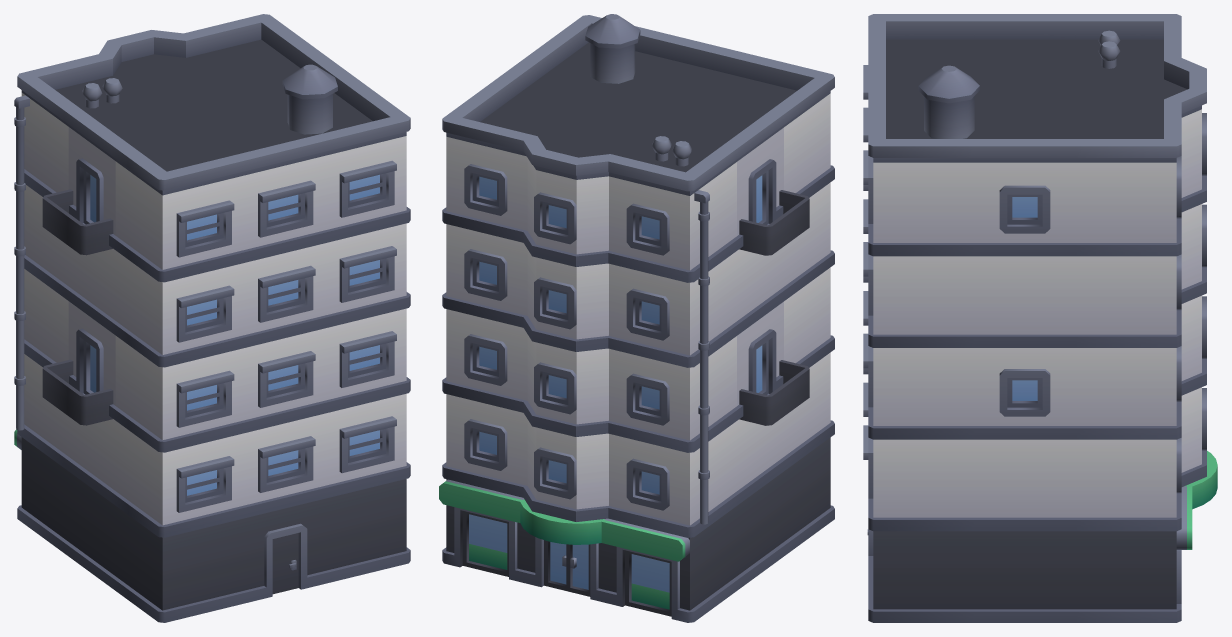
File: building-l.glb
3 views of the same model, side by side, from view 1: azimuth 30°, elevation 25°; view 2: azimuth 150°, elevation 25°; view 3: azimuth 270°, elevation 25° (orthographic). The views are drawn at different scales.
Visible parts, largest first — view 1: building-l; view 2: building-l; view 3: building-l.
Boxes of the visible parts, x1,y1,x2,y2 form: building-l: (14,14,410,622); building-l: (439,14,834,622); building-l: (863,14,1217,622).
Size of the model in its own units: 1.37 by 2.27 by 1.4.
Materials: 1 (1 with a texture image).
